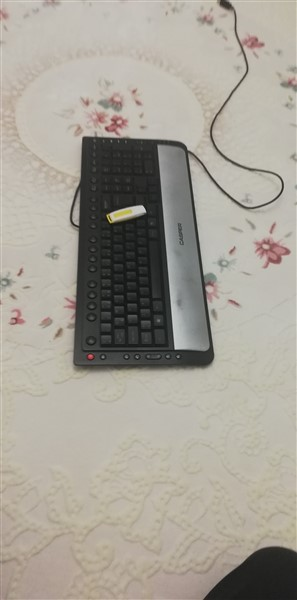flash disk: (98, 198, 151, 229)
klavye: (73, 132, 220, 374)
